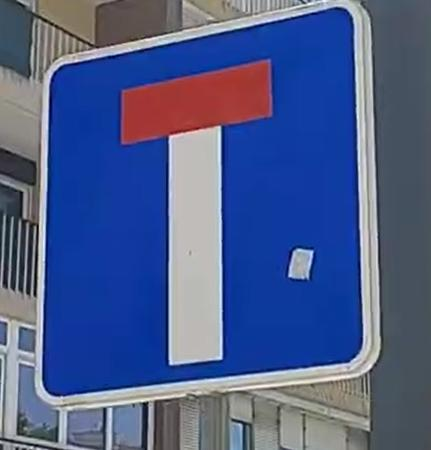via publica sem saida: (41, 8, 394, 392)
